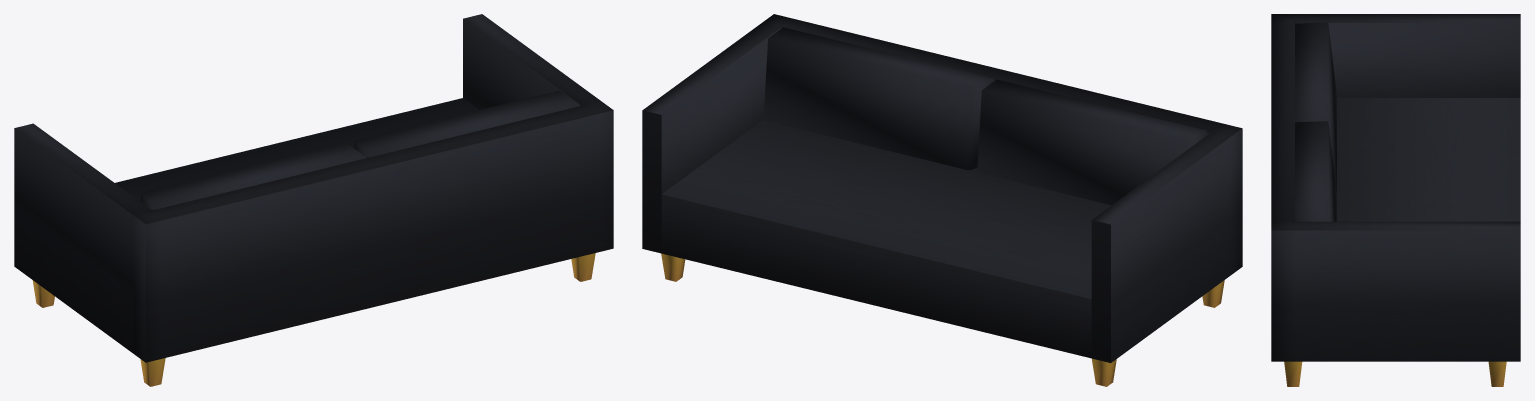
Rendered from Couch.FBX.
3 renders of one model, left to right at view 1: azimuth 30°, elevation 25°; view 2: azimuth 150°, elevation 25°; view 3: azimuth 270°, elevation 25°, orthographic. The views are drawn at different scales.
Parts seen in each view (by area): view 1: Box328; view 2: Box328; view 3: Box328.
Part boxes in pixels (x1=…): Box328: x1=14, y1=14, x2=613, y2=386; Box328: x1=642, y1=14, x2=1242, y2=386; Box328: x1=1271, y1=14, x2=1520, y2=386.
Size of the model in its own units: 72.83 by 26.1 by 35.43.
